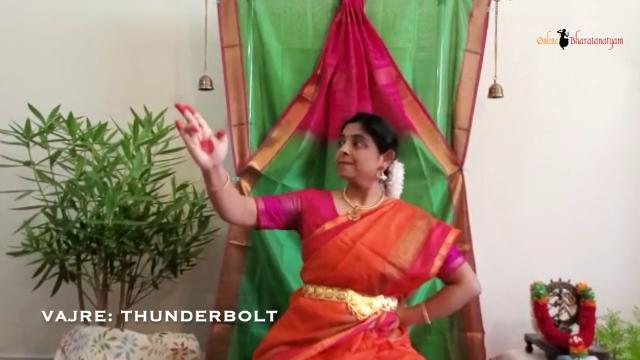tripataka: (156, 94, 242, 176)
